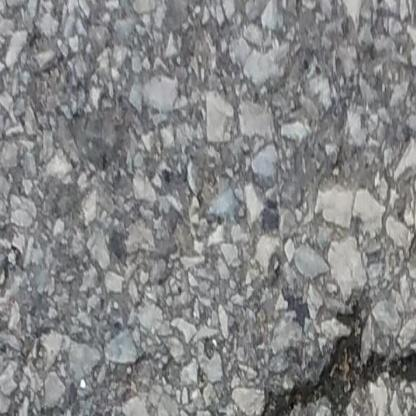Cracks: (235, 298, 416, 416)
